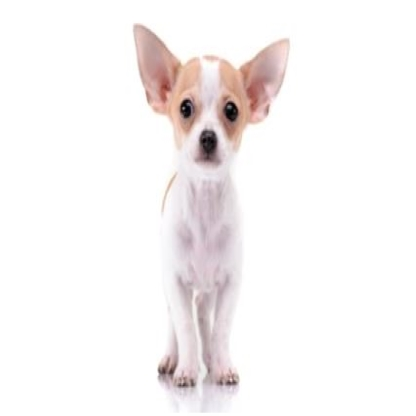chihuahua: (131, 22, 291, 389)
